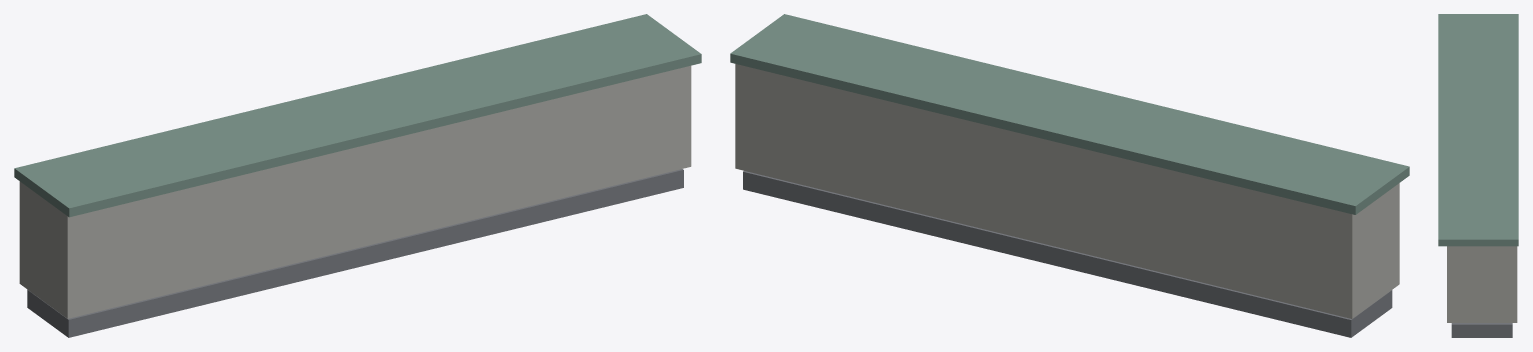
Rendered from mov_260e520223.gltf.
3 views of the same model, side by side, from view 1: azimuth 30°, elevation 25°; view 2: azimuth 150°, elevation 25°; view 3: azimuth 270°, elevation 25° (orthographic). The views are drawn at different scales.
Parts seen in each view (by area): view 1: mov_260e520223; view 2: mov_260e520223; view 3: mov_260e520223.
Part boxes in pixels (box(x1,y1,x2,y2)): mov_260e520223: box(14, 14, 701, 337); mov_260e520223: box(730, 14, 1409, 337); mov_260e520223: box(1438, 14, 1518, 337).
Size of the model in its own units: 4.4 by 0.92 by 0.66.
